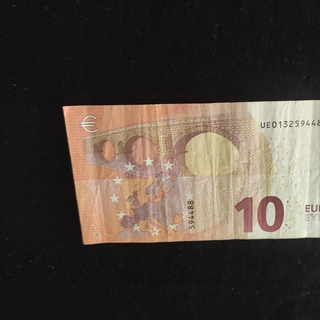10EUROBack: (63, 98, 320, 245)
